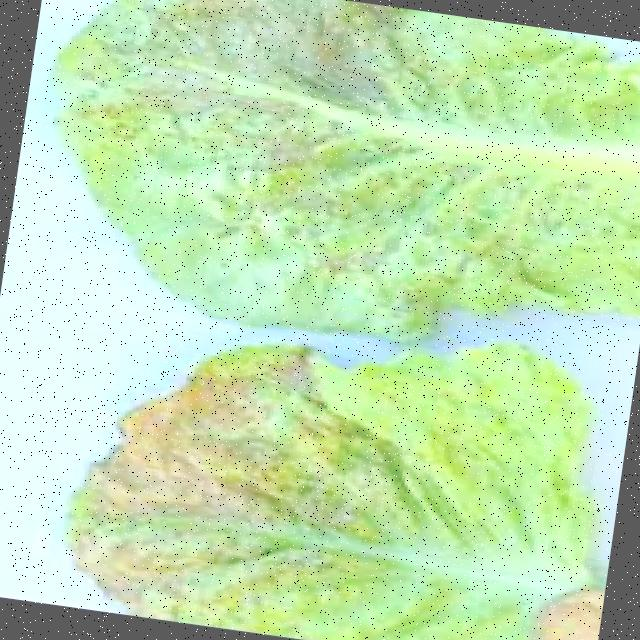Viral: (89, 0, 637, 295), (159, 377, 542, 640)
